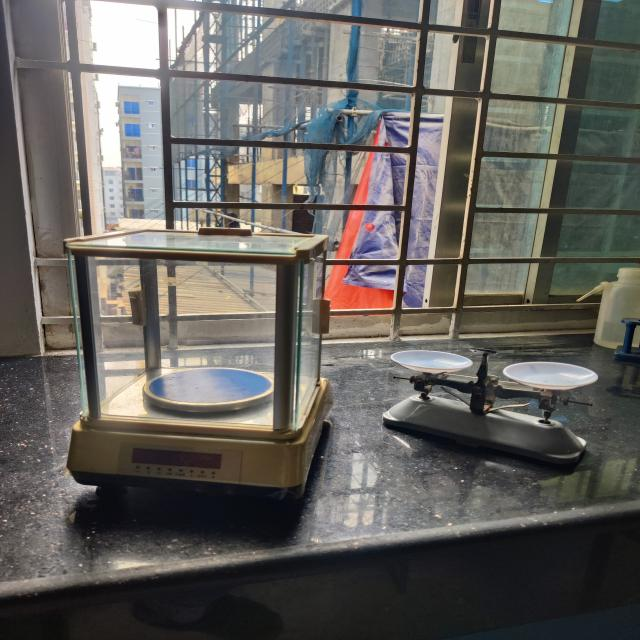Mechanical_Balance_Scale: (372, 331, 606, 479)
Precision_Weight_Scale: (55, 199, 343, 512)
